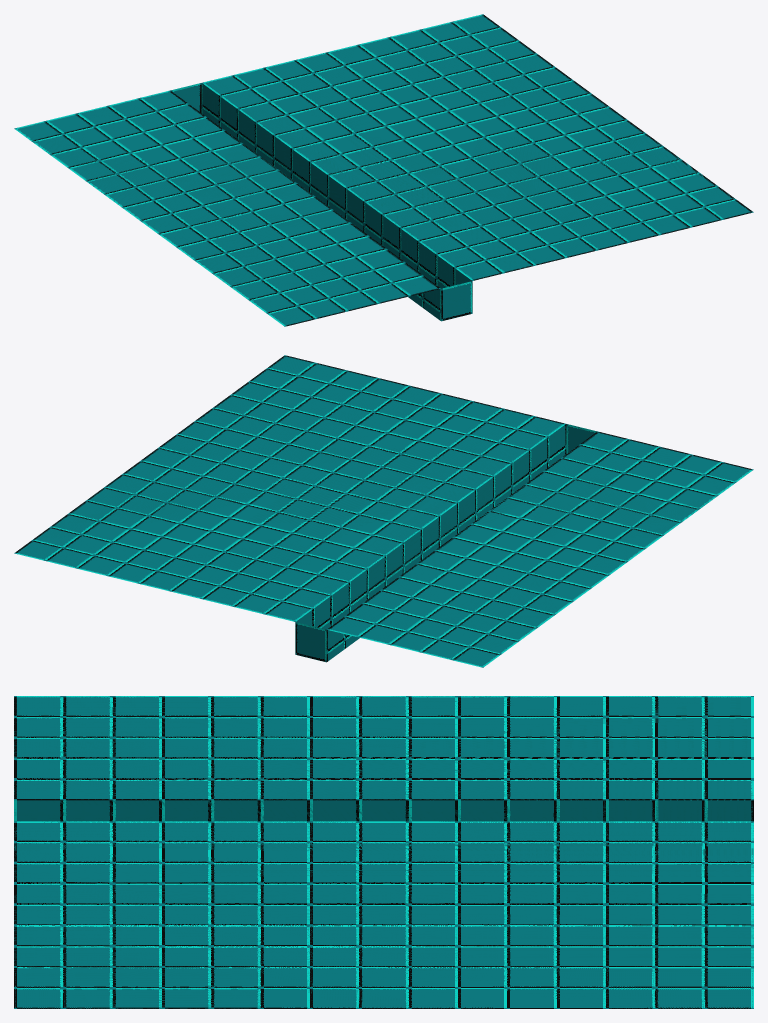
The model's file is Dungeon Floor Water Line.dae.
3 views of the same model, one above another, from view 1: azimuth 30°, elevation 25°; view 2: azimuth 150°, elevation 25°; view 3: azimuth 270°, elevation 25° (orthographic). The views are drawn at different scales.
Parts seen in each view (by area): view 1: group_0; view 2: group_0; view 3: group_0.
Boxes of the visible parts, left/top/right/bottom form: group_0: left=14, top=14, right=753, bottom=326; group_0: left=14, top=355, right=753, bottom=667; group_0: left=14, top=696, right=753, bottom=1008.
Bounding box in the file's own units: 591 × 591 × 39.37.
